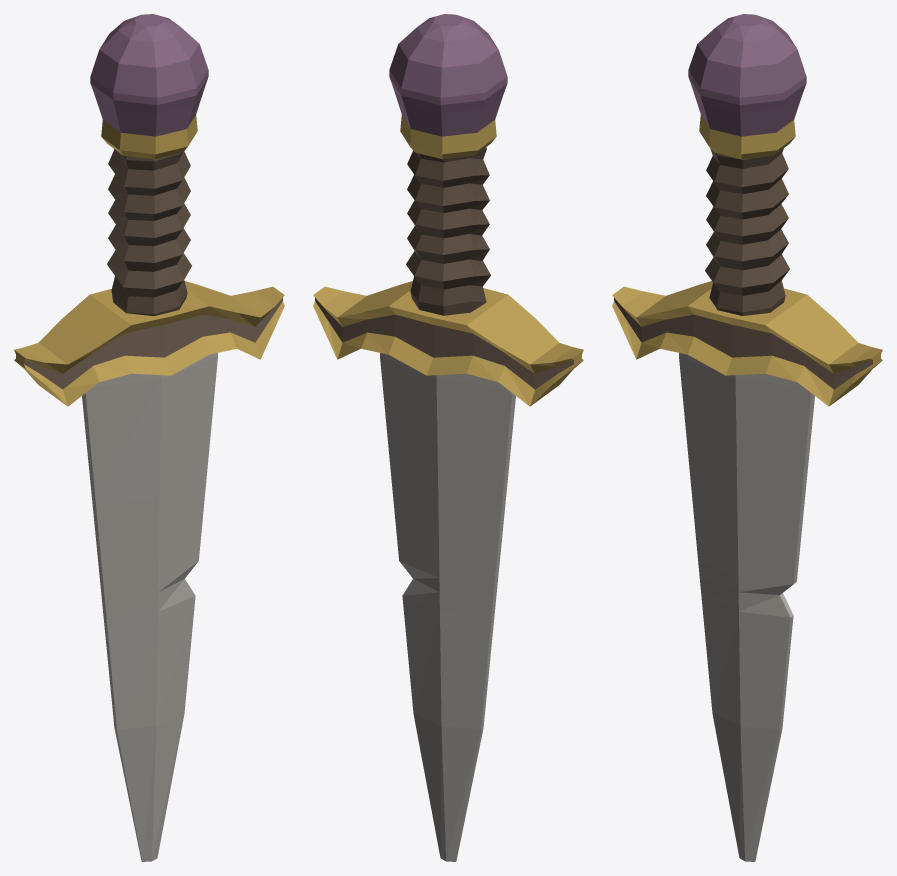
The model's file is jewelled-dagger-38f556.glb.
The picture shows the model from 3 angles, left to right: view 1: azimuth 30°, elevation 25°; view 2: azimuth 150°, elevation 25°; view 3: azimuth 330°, elevation 25°; orthographic projection.
Visible parts, largest first — view 1: jewelled-dagger; view 2: jewelled-dagger; view 3: jewelled-dagger.
Part boxes in pixels (x1,y1,x2,y2): jewelled-dagger: [14, 14, 284, 861]; jewelled-dagger: [313, 14, 583, 861]; jewelled-dagger: [612, 14, 882, 861].
Bounding box in the file's own units: 0.113 × 0.35 × 0.0416.
